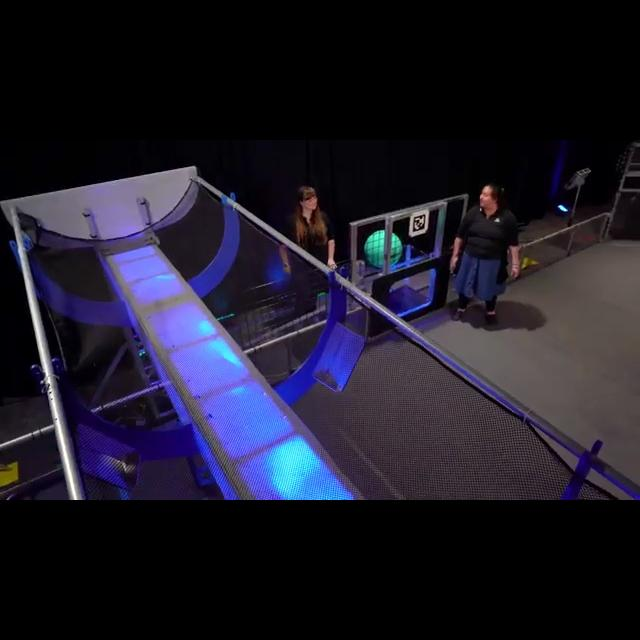ALGAE: (362, 228, 402, 268)
